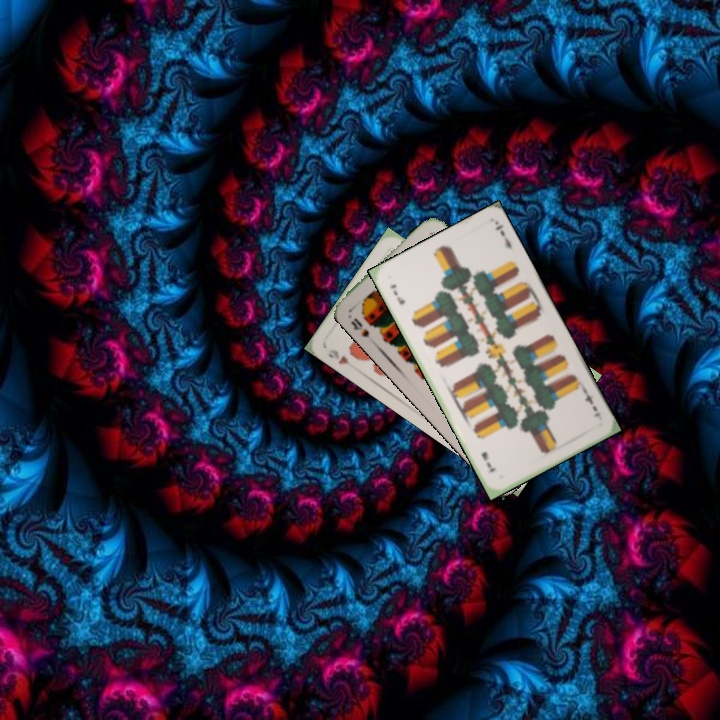E7: (579, 385, 603, 420), (386, 280, 408, 307)
H9: (325, 345, 358, 372)
S8: (347, 314, 372, 340)
